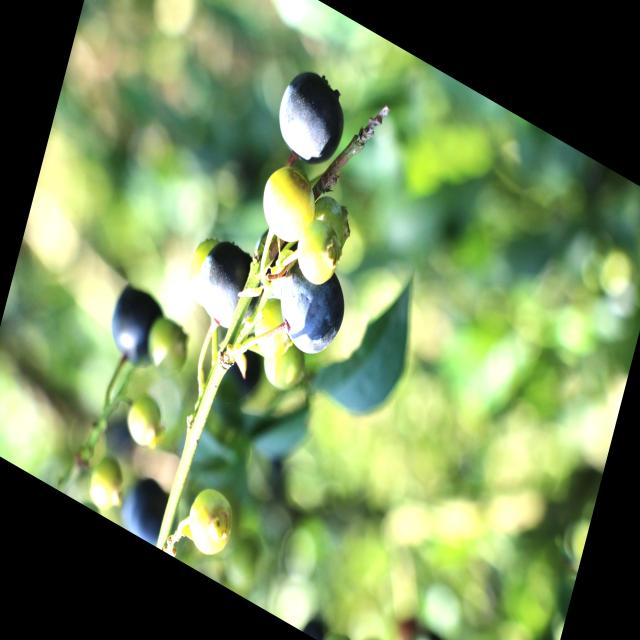blueberry: (270, 245, 356, 370), (270, 58, 352, 175), (191, 226, 271, 342), (105, 280, 172, 376)
blueberry-unripe: (253, 158, 320, 252), (181, 477, 240, 564), (292, 211, 348, 287), (142, 311, 193, 389), (181, 228, 222, 308), (261, 335, 309, 398), (250, 304, 297, 368), (123, 389, 168, 454), (85, 449, 128, 515), (306, 192, 356, 248)
